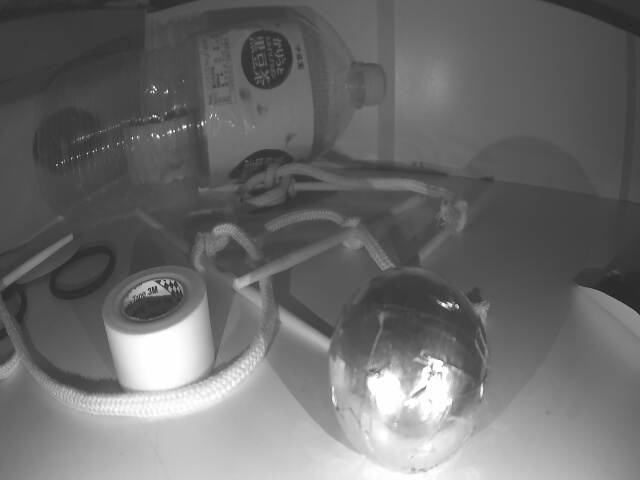Live: (323, 265, 490, 474)
